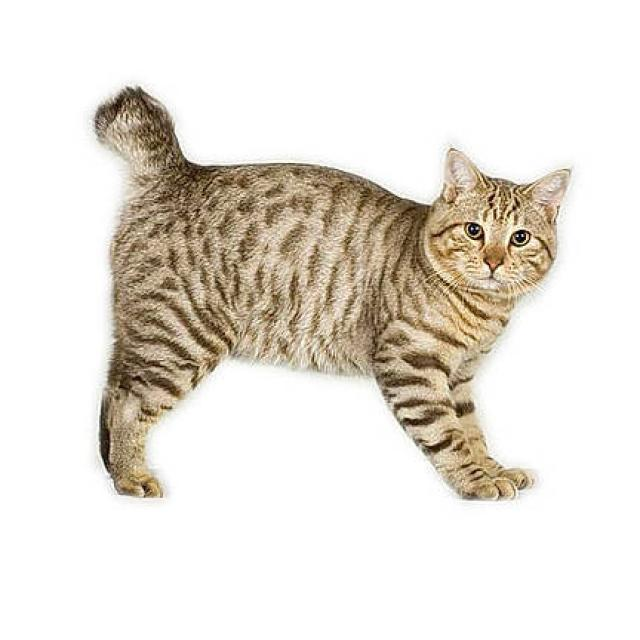American Bobtail: (89, 81, 575, 508)
